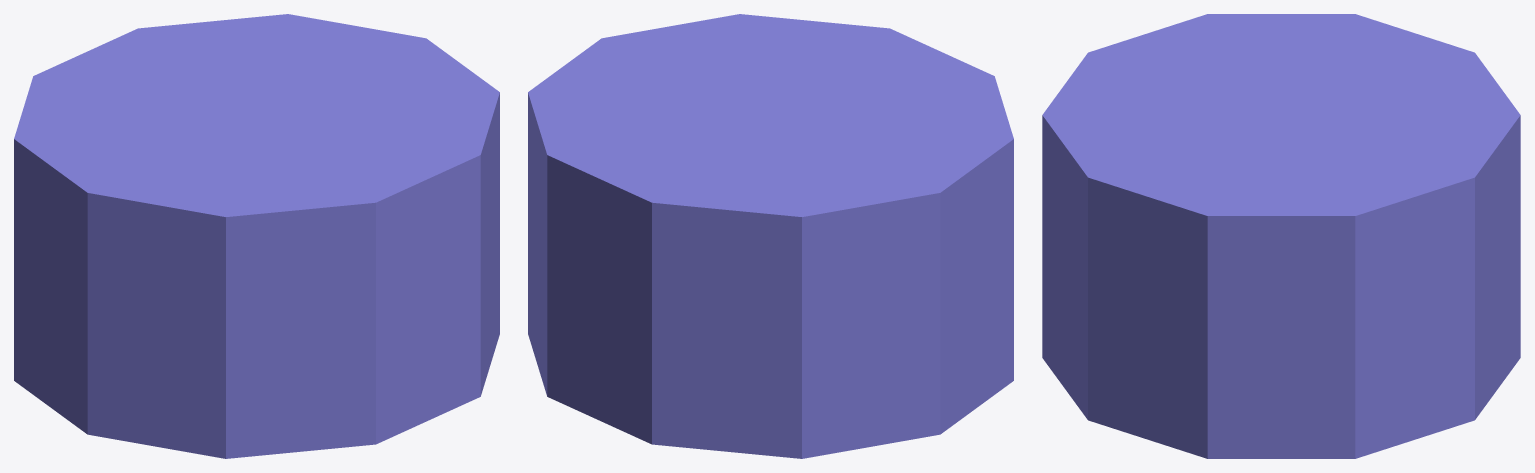
File: ArenaCollider.fbx
The picture shows the model from 3 angles, left to right: view 1: azimuth 30°, elevation 25°; view 2: azimuth 150°, elevation 25°; view 3: azimuth 270°, elevation 25°; orthographic projection.
Parts seen in each view (by area): view 1: ArenaCollider; view 2: ArenaCollider; view 3: ArenaCollider.
Boxes of the visible parts, x1,y1,x2,y2 form: ArenaCollider: (14,14,499,458); ArenaCollider: (528,14,1013,458); ArenaCollider: (1042,14,1520,458).
Size of the model in its own units: 5320 by 2981 by 5320.
